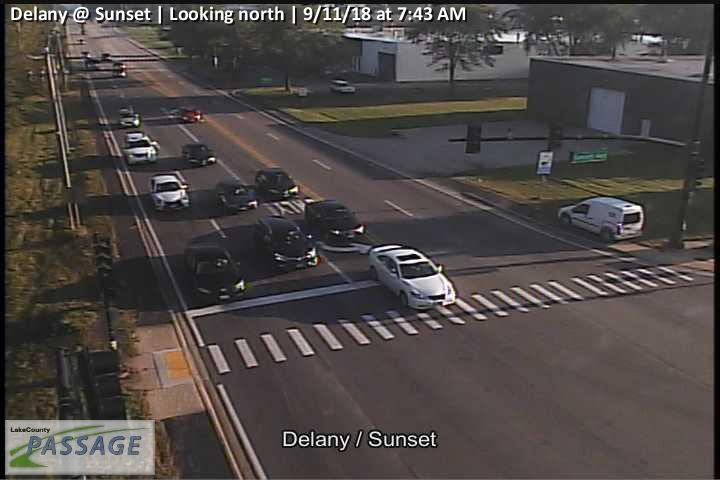SUV: (558, 197, 645, 244), (253, 215, 319, 272), (123, 132, 157, 163)
Sedan: (368, 244, 457, 310), (185, 244, 247, 304), (304, 200, 366, 244), (150, 172, 190, 209), (217, 181, 258, 214), (256, 169, 298, 199), (182, 142, 217, 167), (118, 107, 140, 127), (179, 107, 206, 123)
